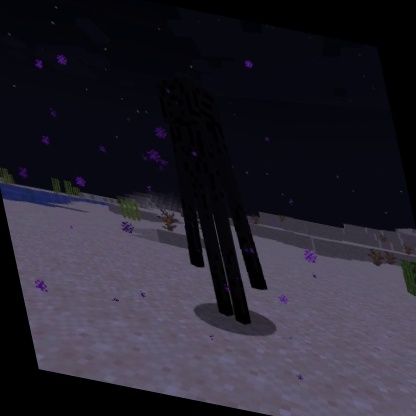enderman: (143, 68, 281, 335)
